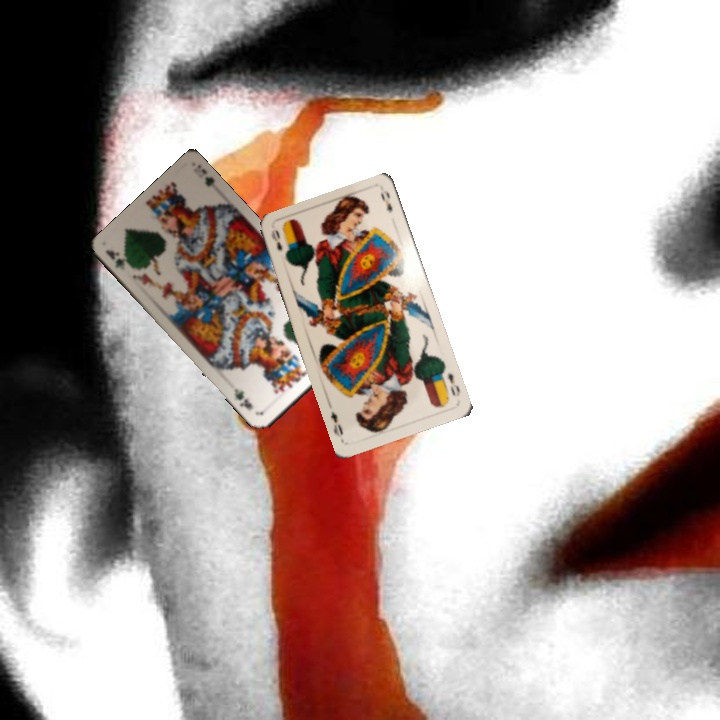EO: (444, 369, 463, 399), (267, 225, 285, 253)
GK: (102, 245, 128, 274)
